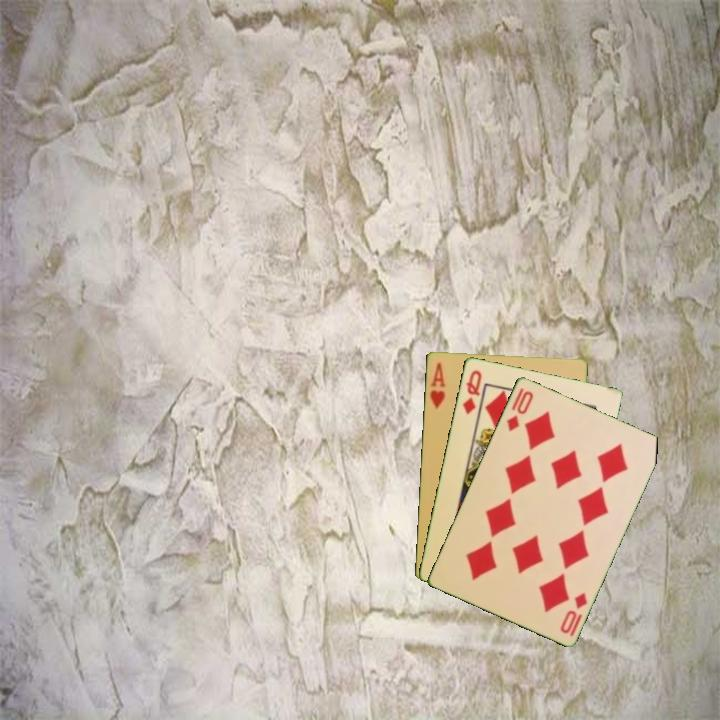10d: (556, 589, 590, 639), (503, 387, 536, 434)
Ah: (426, 359, 448, 411)
Qd: (459, 366, 484, 417)
